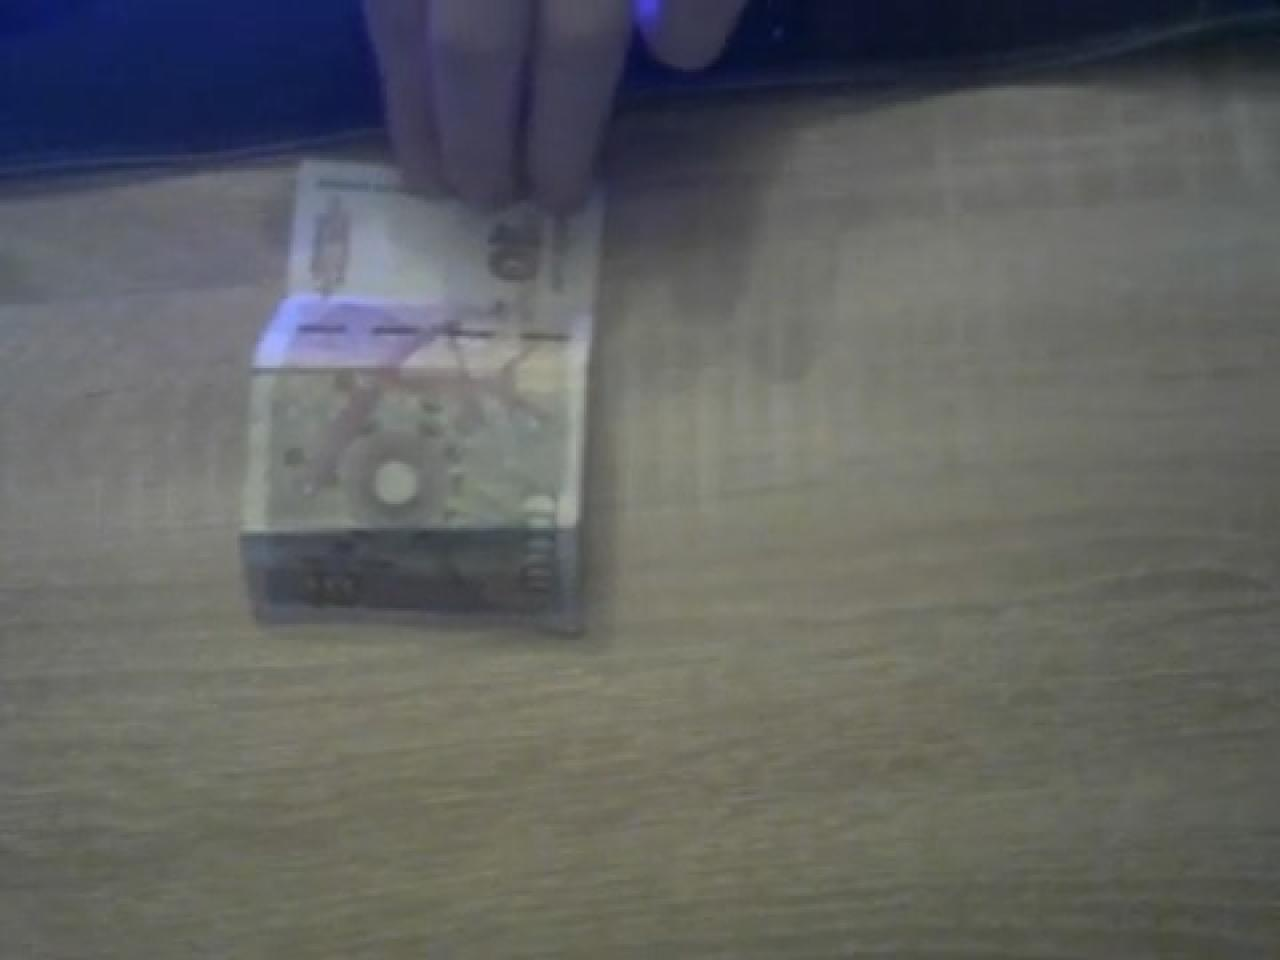10leva: (235, 213, 597, 635)
